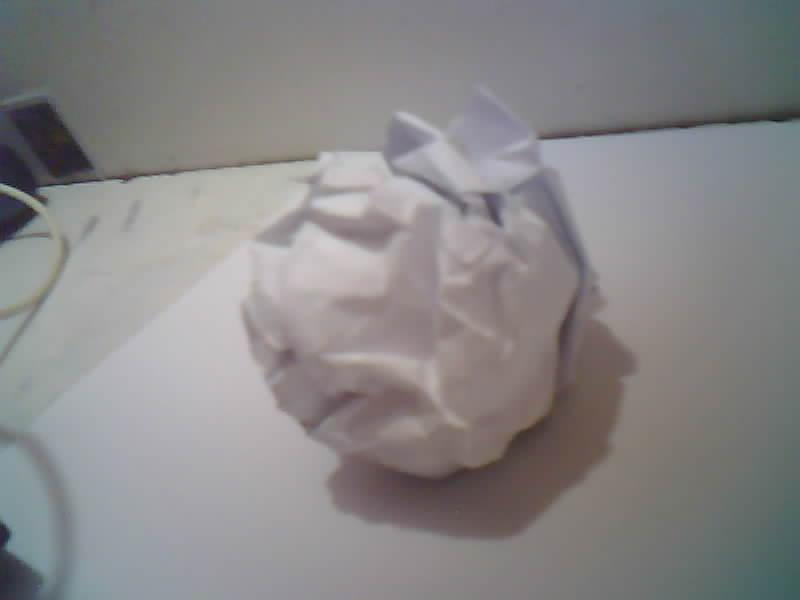biodegradable: (242, 91, 595, 476)
